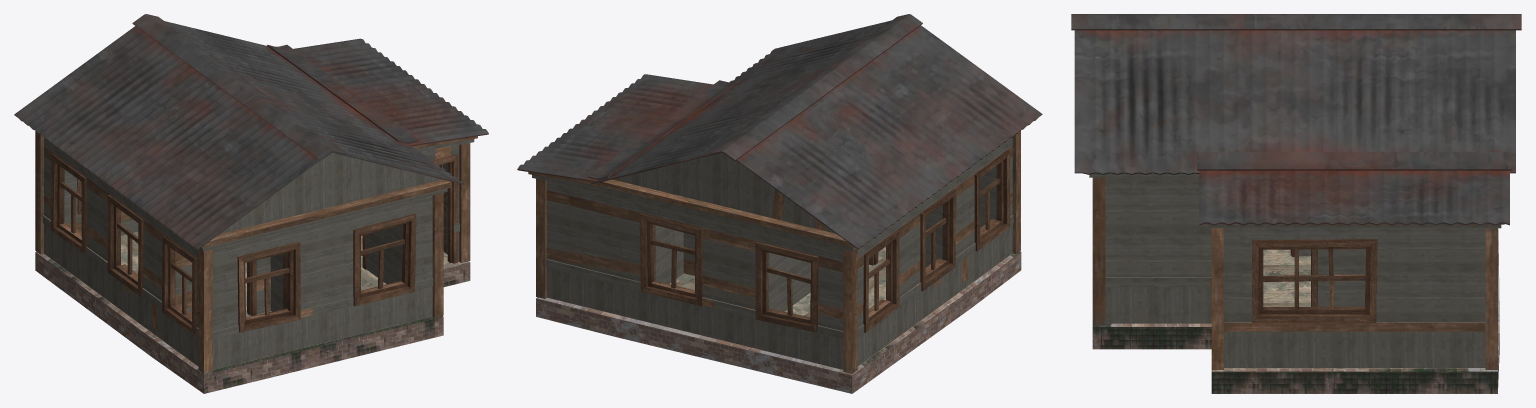
The model's file is oldhouse.glb.
3 views of the same model, side by side, from view 1: azimuth 30°, elevation 25°; view 2: azimuth 150°, elevation 25°; view 3: azimuth 270°, elevation 25° (orthographic). The views are drawn at different scales.
Visible parts, largest first — view 1: Plane001_Material #26_0, Box001_Material #25_0, Object001_Material #27_0, Object_Material #28_0; view 2: Plane001_Material #26_0, Box001_Material #25_0, Object001_Material #27_0, Object_Material #28_0; view 3: Plane001_Material #26_0, Box001_Material #25_0, Object_Material #28_0, Object001_Material #27_0.
Part boxes in pixels (left/top/right/bottom): Plane001_Material #26_0: left=14, top=14, right=488, bottom=249; Box001_Material #25_0: left=35, top=131, right=477, bottom=373; Object001_Material #27_0: left=50, top=153, right=458, bottom=335; Object_Material #28_0: left=35, top=231, right=470, bottom=393; Plane001_Material #26_0: left=517, top=14, right=1042, bottom=249; Box001_Material #25_0: left=528, top=131, right=1020, bottom=373; Object001_Material #27_0: left=639, top=150, right=1009, bottom=332; Object_Material #28_0: left=536, top=246, right=1021, bottom=393; Plane001_Material #26_0: left=1071, top=14, right=1521, bottom=225; Box001_Material #25_0: left=1089, top=173, right=1504, bottom=369; Object_Material #28_0: left=1092, top=228, right=1499, bottom=393; Object001_Material #27_0: left=1252, top=239, right=1377, bottom=322.
Size of the model in its own units: 722 by 442 by 683.
4 materials, 4 textured.
